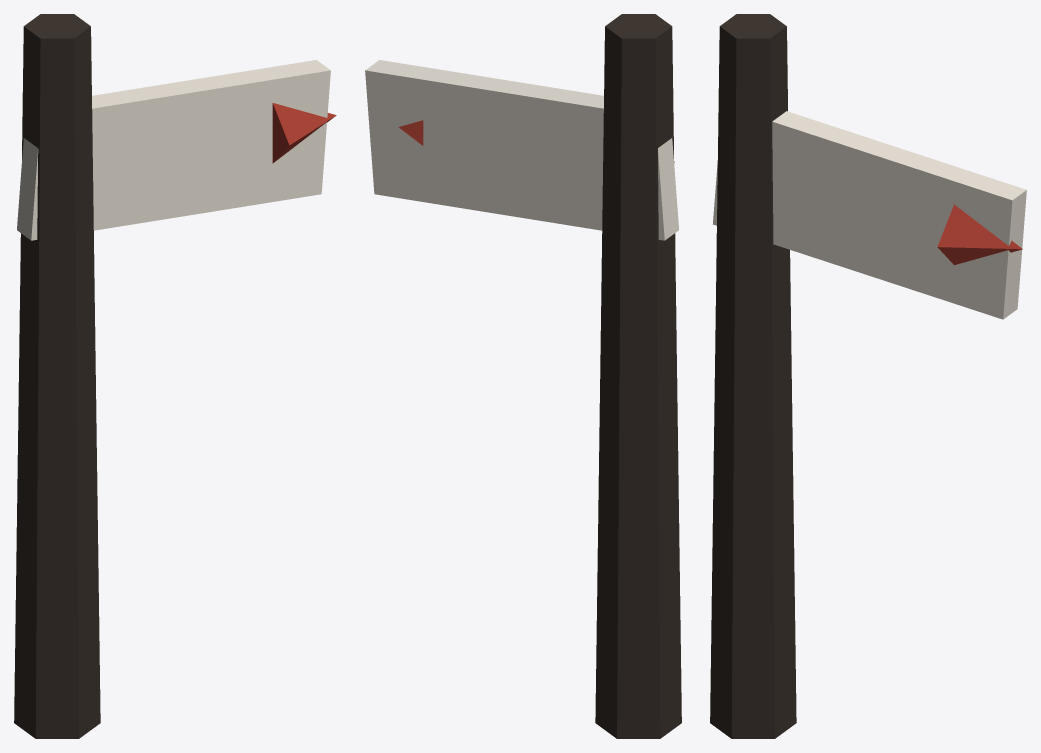
File: signpost.glb
The picture shows the model from 3 angles, left to right: view 1: azimuth 30°, elevation 25°; view 2: azimuth 150°, elevation 25°; view 3: azimuth 330°, elevation 25°; orthographic projection.
Visible parts, largest first — view 1: n1, n3, n5; view 2: n1, n3; view 3: n1, n3, n5.
Part boxes in pixels (<box>): n1: <box>14,14,100,738</box>; n3: <box>17,60,330,240</box>; n5: <box>272,103,336,163</box>; n1: <box>595,14,681,738</box>; n3: <box>365,60,678,240</box>; n1: <box>710,14,796,738</box>; n3: <box>712,111,1026,319</box>; n5: <box>937,204,1022,265</box>.
Size of the model in its own units: 0.7401 by 1.6 by 0.19.
